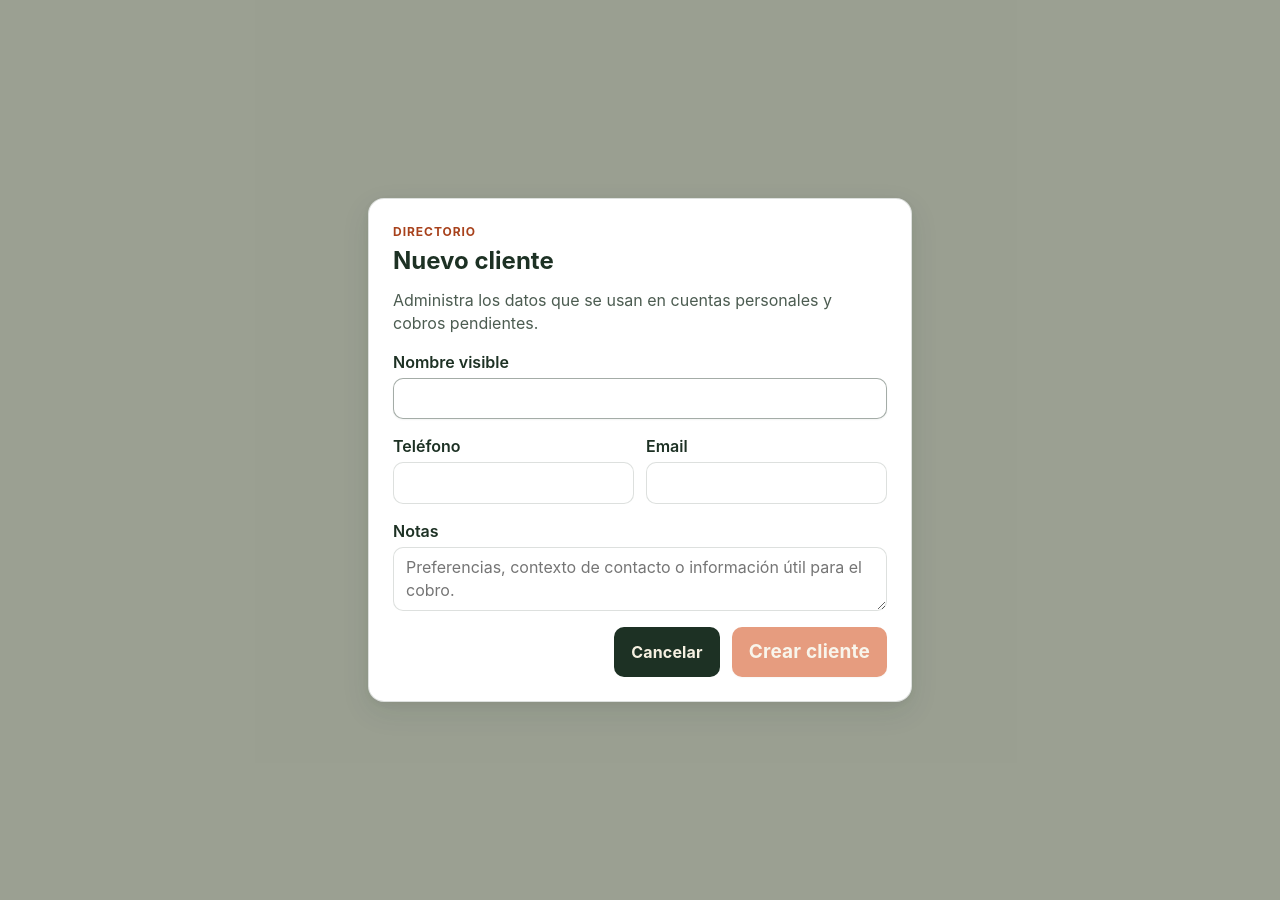
Test: CustomerForm › keeps create disabled until a display name is present
This screenshot has width=1280, height=900.
Expected: the button "Crear cliente" is disabled, [732,627,887,677]
Type "Lina M." into the field labelled "Nombre visible".
click(640, 399); type("Lina M.")  # box [393,378,887,419]
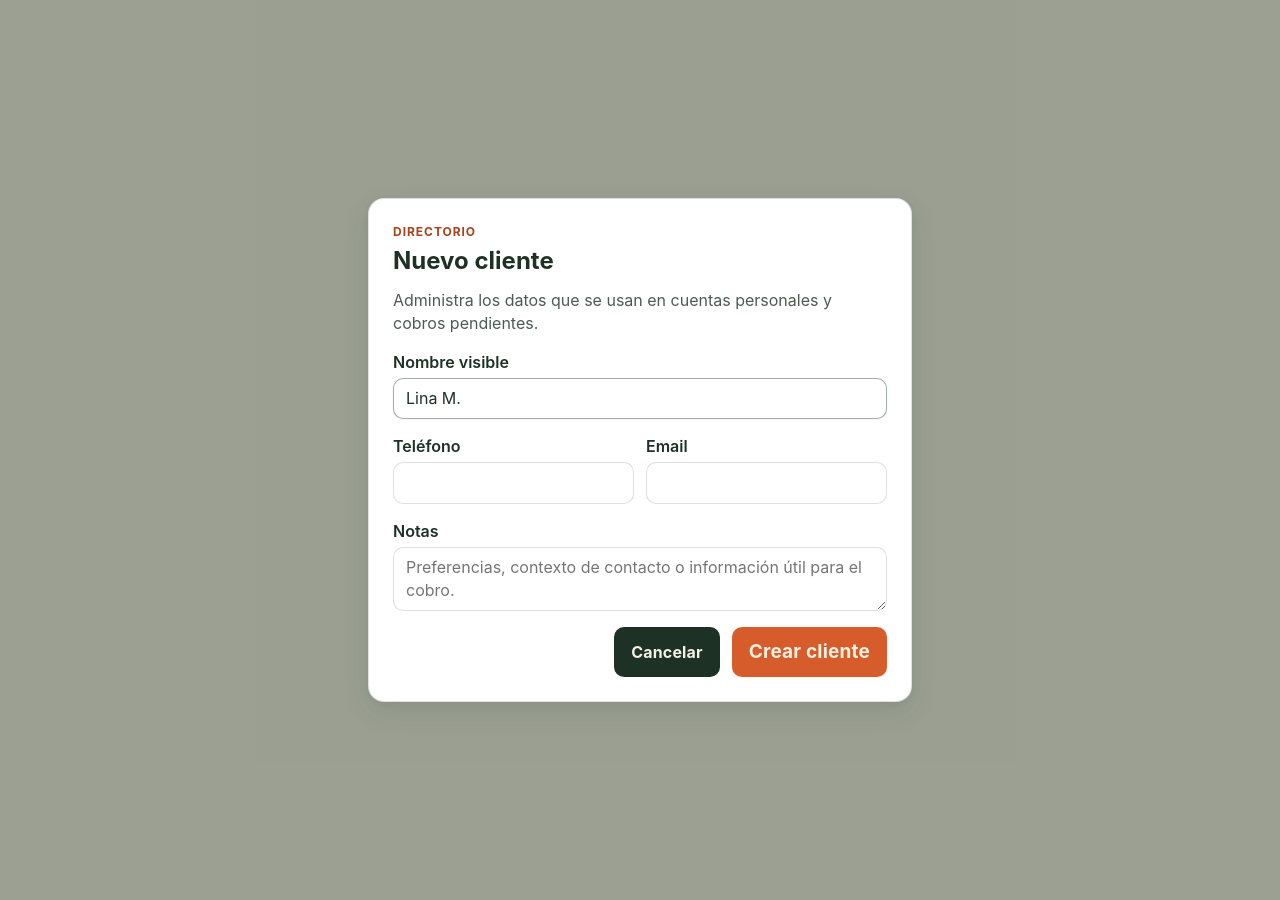
Expected: the button "Crear cliente" is enabled, [732,627,887,677]
